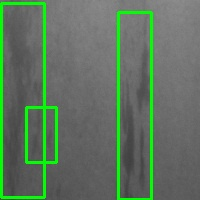inclusion: (1, 3, 44, 197), (118, 12, 151, 199), (26, 107, 56, 162)
